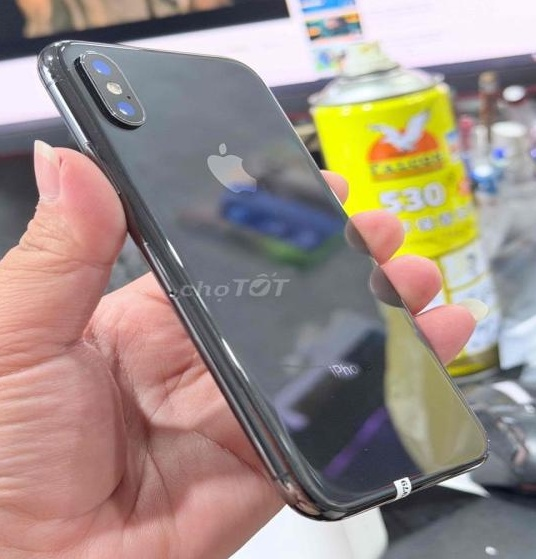scratch: (35, 48, 90, 123), (341, 438, 381, 469), (85, 122, 119, 144), (319, 391, 351, 413), (83, 38, 105, 58), (105, 104, 118, 121)
